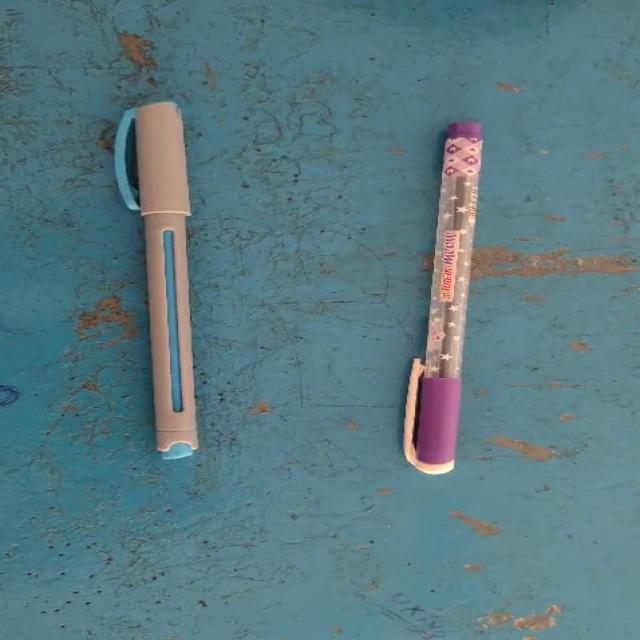pen: (53, 52, 270, 484), (348, 84, 542, 498)
